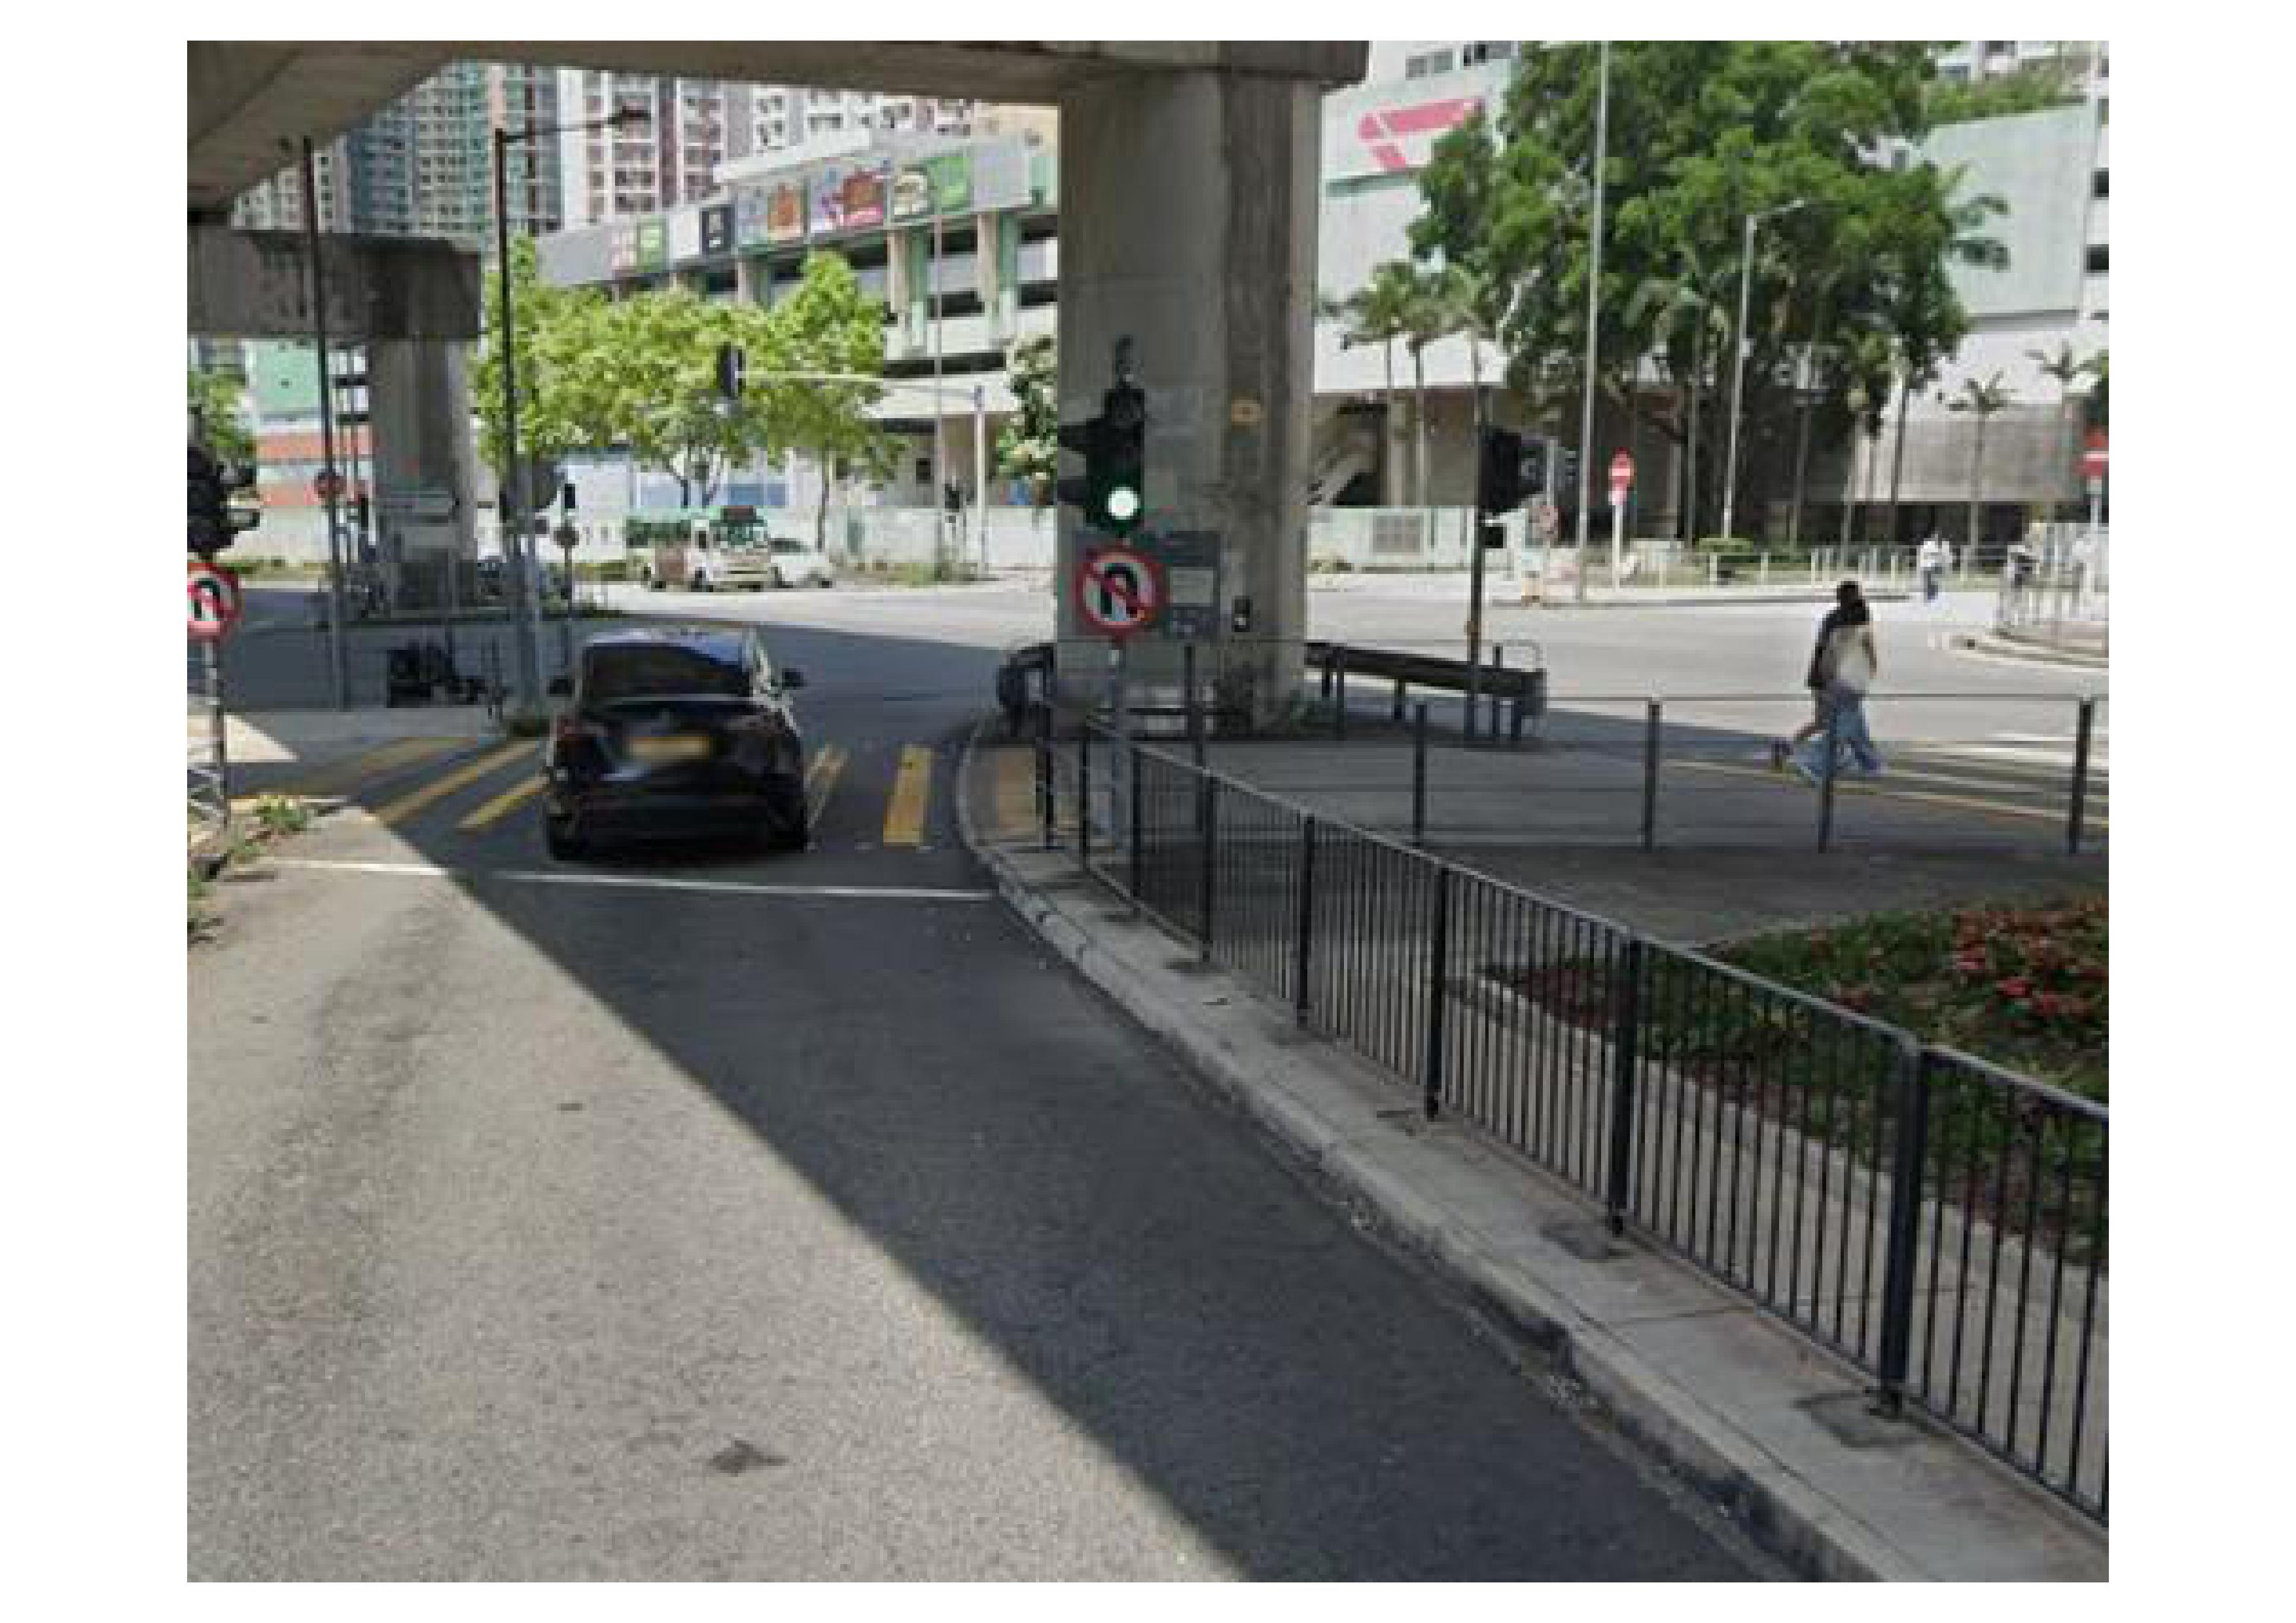No Uturn: (1062, 545, 1174, 641), (188, 564, 239, 638)
